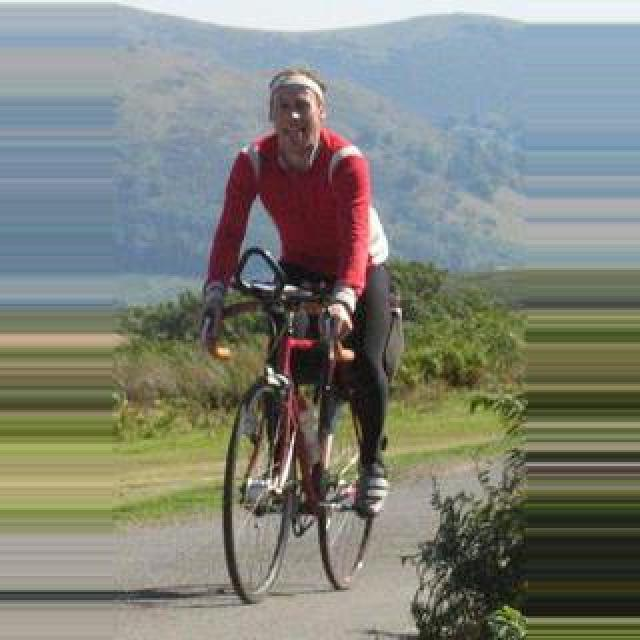MC-Bike: (196, 68, 394, 494)
Person: (206, 268, 384, 604)
